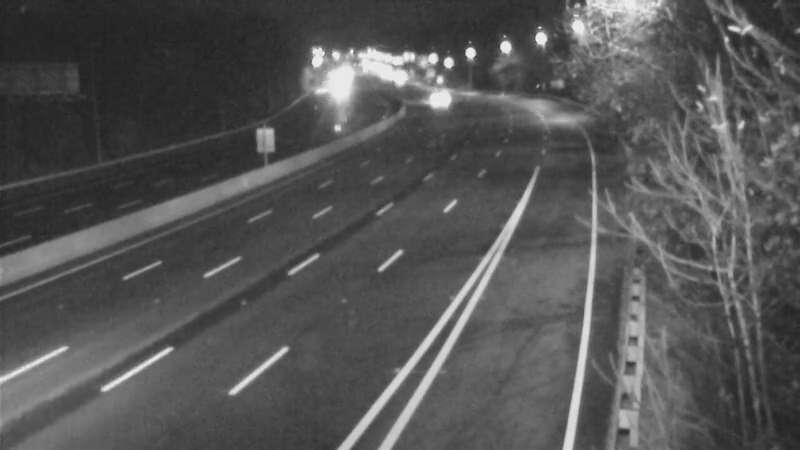vehicle: (411, 70, 461, 120)
